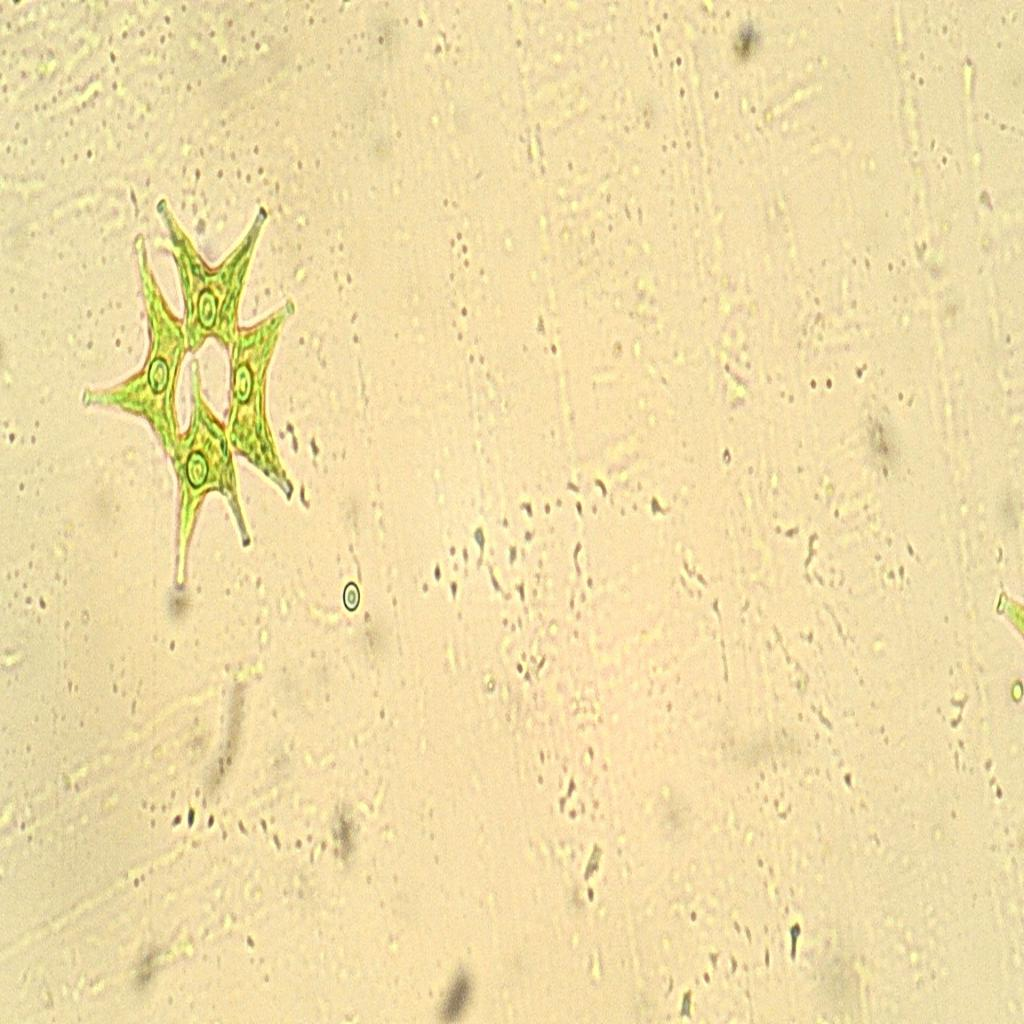Pediastrum_75FO: (73, 164, 307, 624)
